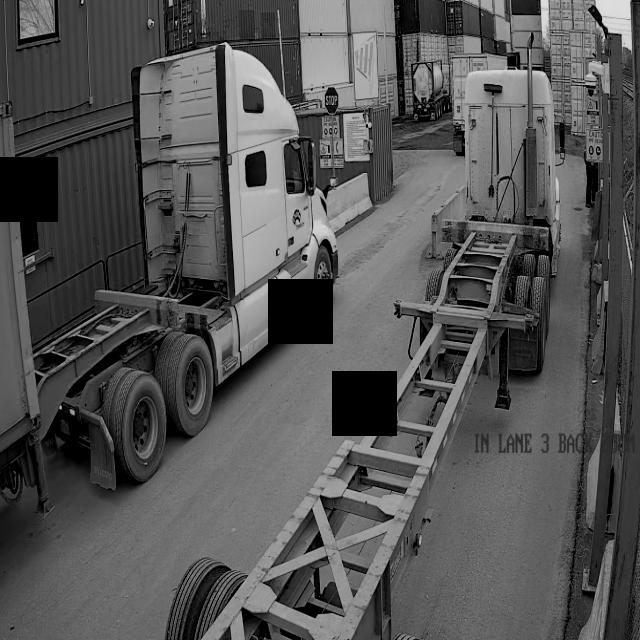multiple_containers: (0, 0, 596, 342), (447, 75, 462, 107)
truck_with_container: (0, 43, 338, 513)
truck_without_container: (166, 50, 565, 640)
